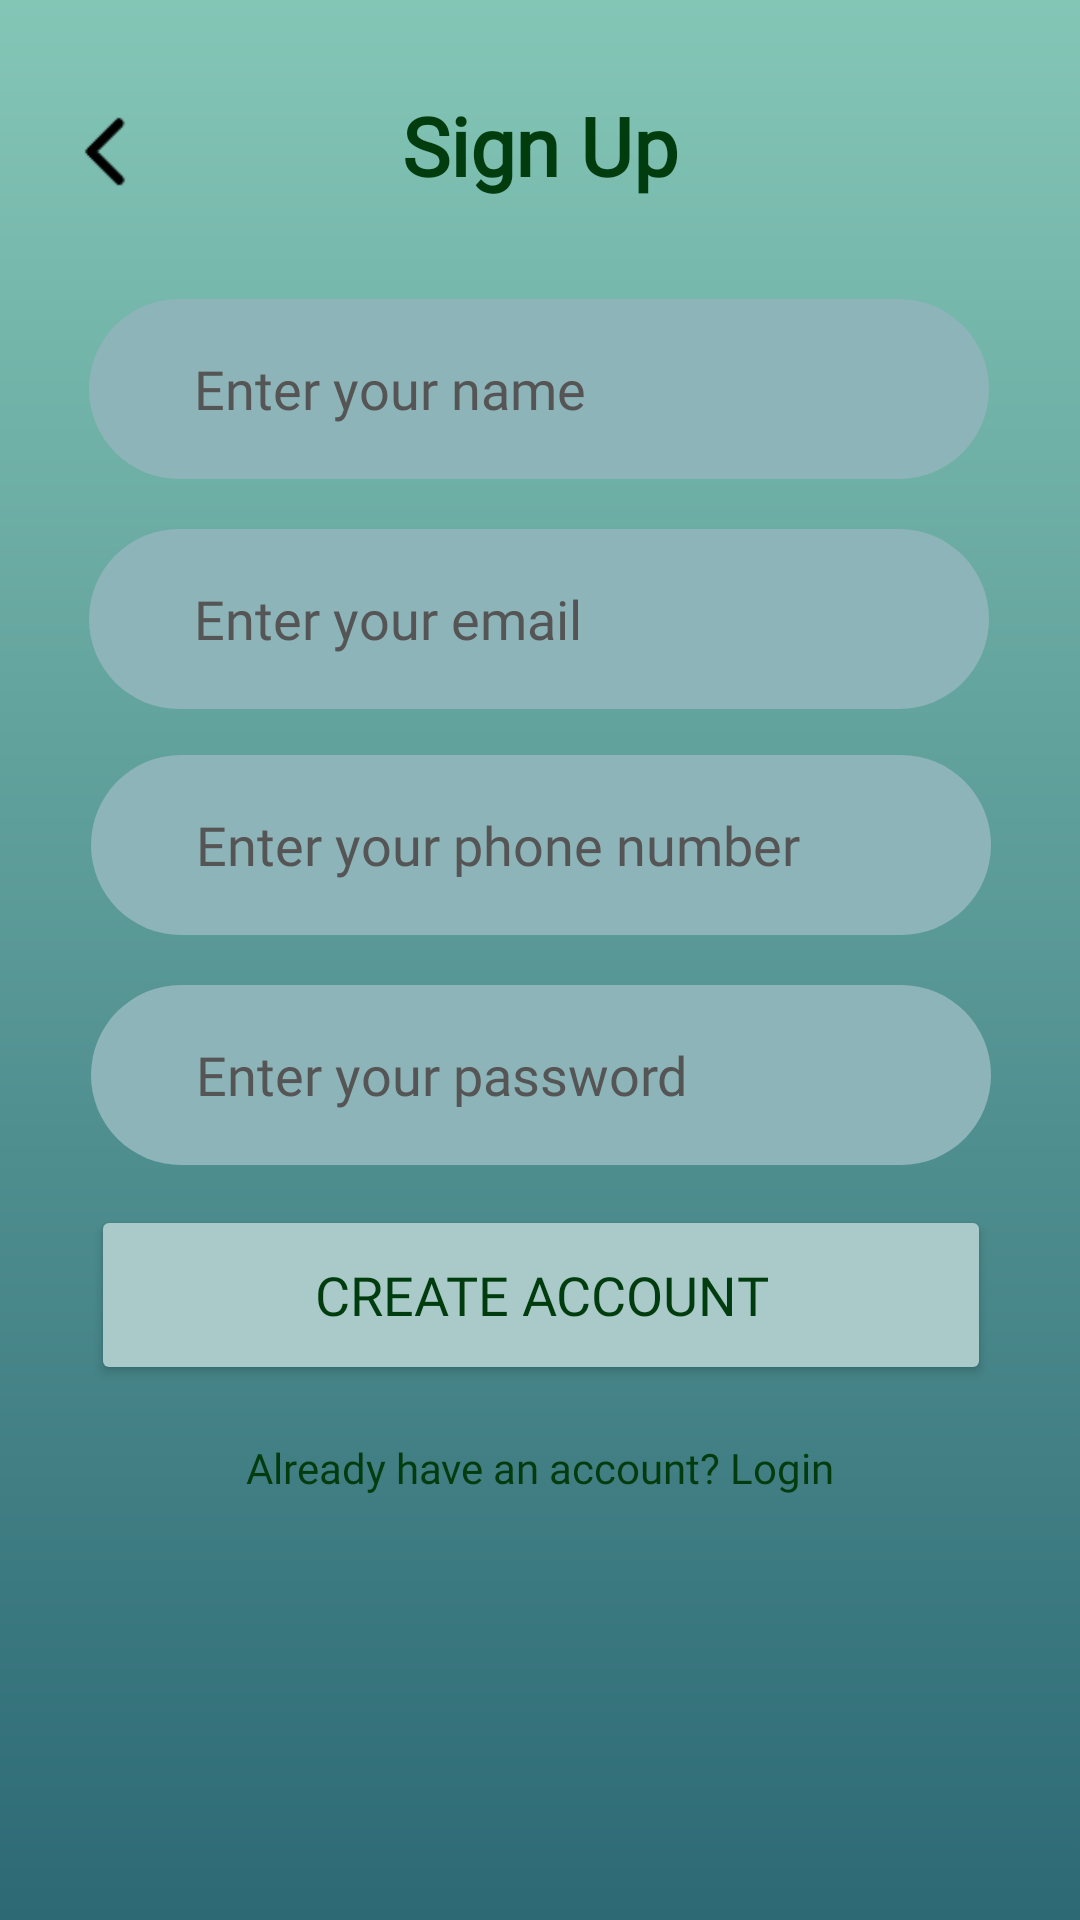

Icons on this 1080 × 1920 Android screen, each with its box as {"x1": x1, "y1": y1, "x2": x2, "y2": y2}:
back: {"x1": 85, "y1": 117, "x2": 125, "y2": 186}
